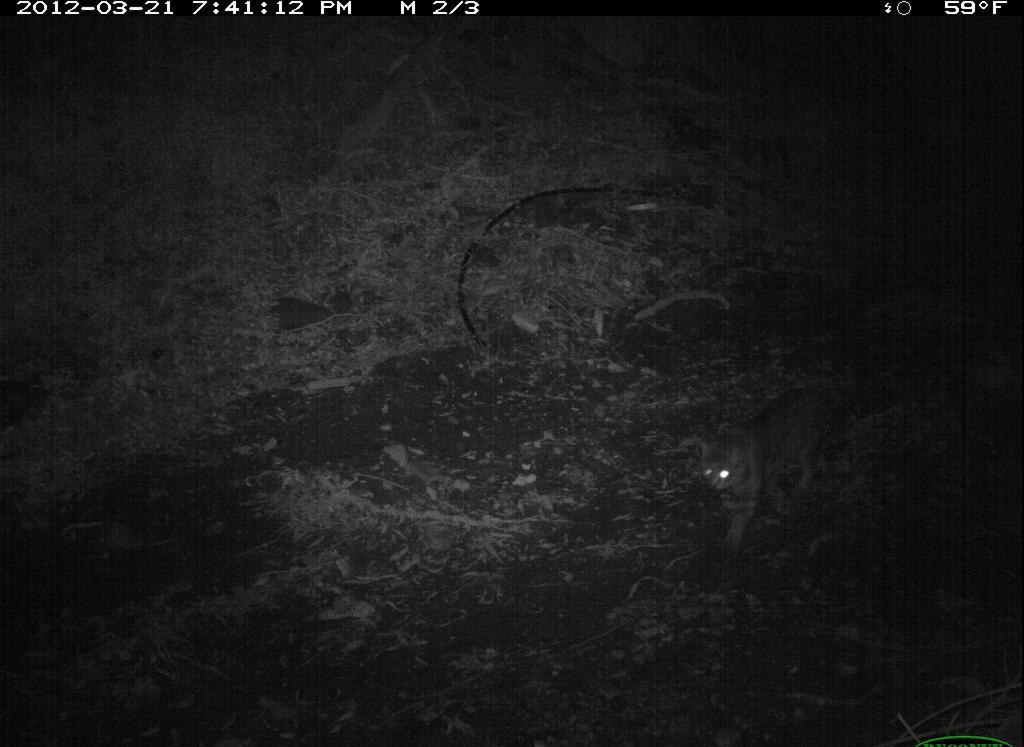cat: (693, 387, 854, 557)
